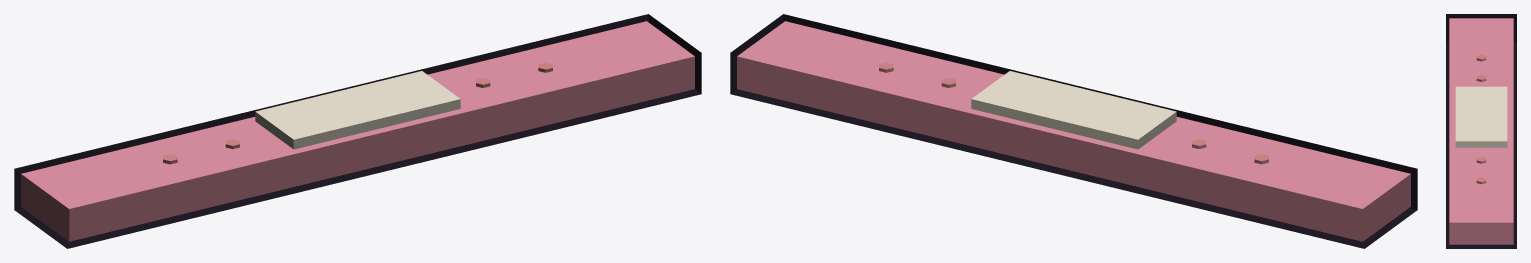
The model's file is Gag_Bandage.glb.
The picture shows the model from 3 angles, left to right: view 1: azimuth 30°, elevation 25°; view 2: azimuth 150°, elevation 25°; view 3: azimuth 270°, elevation 25°; orthographic projection. The views are drawn at different scales.
Visible parts, largest first — view 1: Gag_Bandage; view 2: Gag_Bandage; view 3: Gag_Bandage.
Boxes of the visible parts, box(x1,y1,x2,y2) form: Gag_Bandage: box(14, 14, 701, 248); Gag_Bandage: box(730, 14, 1417, 248); Gag_Bandage: box(1446, 14, 1516, 248).
Size of the model in its own units: 60.8 by 4.3 by 8.8.
1 material, 1 textured.
